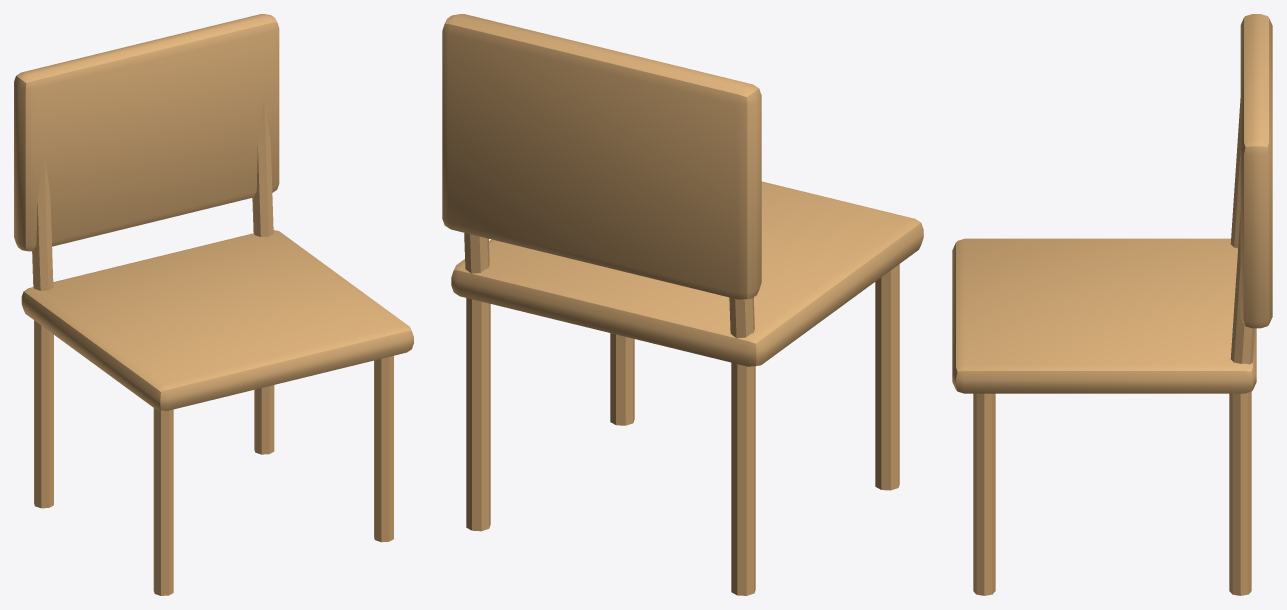
Rendered from chair_pine.glb.
The picture shows the model from 3 angles, left to right: view 1: azimuth 30°, elevation 25°; view 2: azimuth 150°, elevation 25°; view 3: azimuth 270°, elevation 25°; orthographic projection. The views are drawn at different scales.
Visible parts, largest first — view 1: pine; view 2: pine; view 3: pine.
Part boxes in pixels (bbox=[...]): pine: bbox=[14, 14, 413, 595]; pine: bbox=[442, 14, 923, 595]; pine: bbox=[952, 14, 1272, 595].
Bounding box in the file's own units: 0.4 × 0.63 × 0.4.
